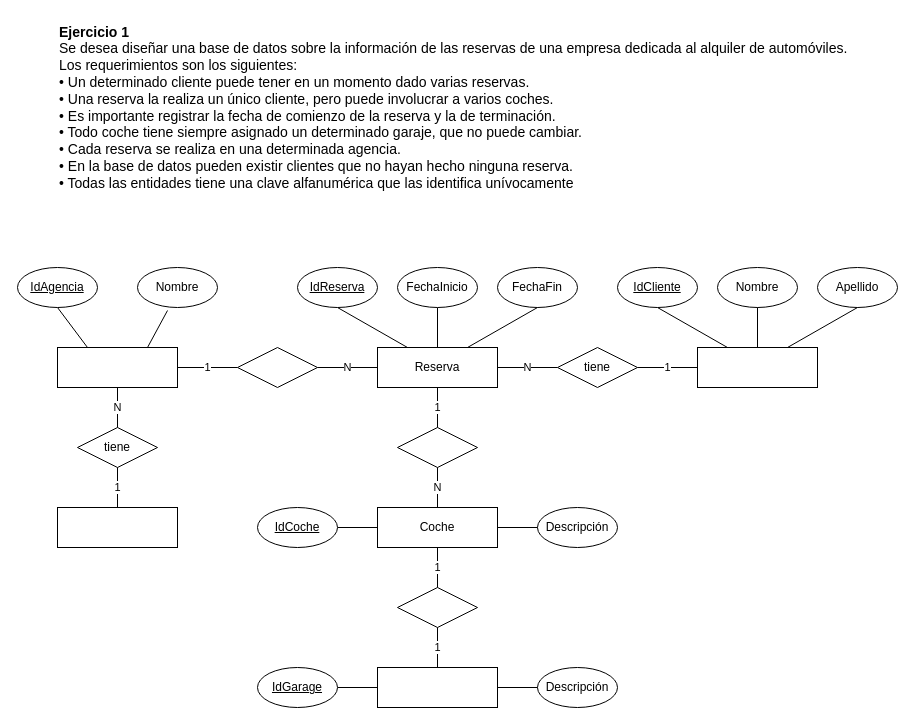
Some shapes in this 915 by 725 pixel diagram are drawn without their labels. The shapes that lost their labels are listed below. From the top down, each one's box as (x1, y1, x2, y2) in pixels, then its label:
(56, 346, 178, 388): Agencía
(236, 346, 318, 388): genera
(696, 346, 818, 388): Cliente
(396, 426, 478, 468): asigna
(56, 506, 178, 548): RENT-A-CAR
(396, 586, 478, 628): asignado
(376, 666, 498, 708): Garage
